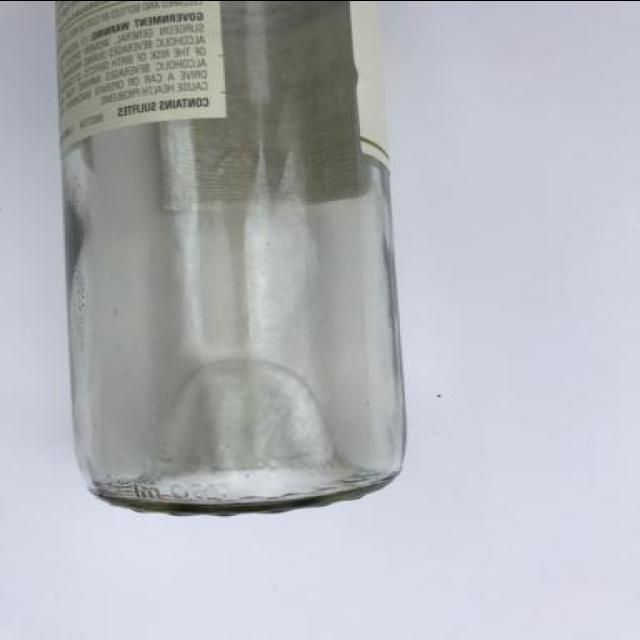glass: (38, 0, 432, 528)
